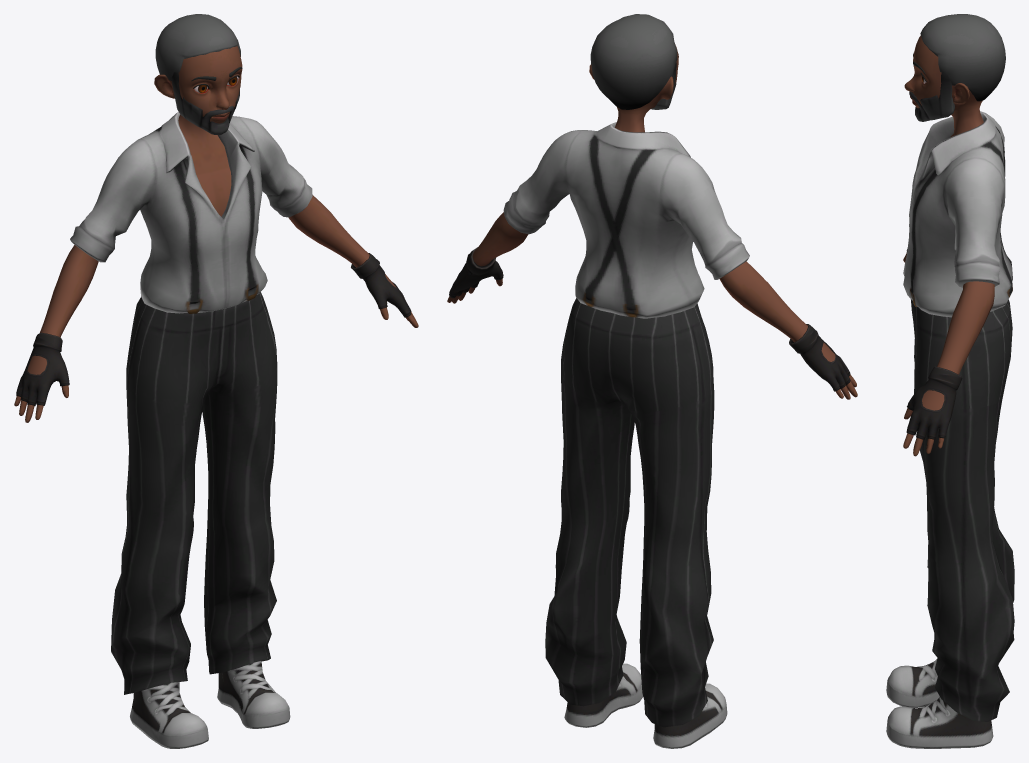
Rendered from StaffConstructionWorker_Mesh.obj.
The picture shows the model from 3 angles, left to right: view 1: azimuth 30°, elevation 25°; view 2: azimuth 150°, elevation 25°; view 3: azimuth 270°, elevation 25°; orthographic projection.
Visible parts, largest first — view 1: StaffConstructionWorker_Mesh_0; view 2: StaffConstructionWorker_Mesh_0; view 3: StaffConstructionWorker_Mesh_0.
Part boxes in pixels (x1,y1,x2,y2): StaffConstructionWorker_Mesh_0: (14,14,418,748); StaffConstructionWorker_Mesh_0: (447,14,857,748); StaffConstructionWorker_Mesh_0: (886,14,1014,748).
Size of the model in its own units: 1.06 by 1.79 by 0.2966.
Materials: 1 (1 with a texture image).
